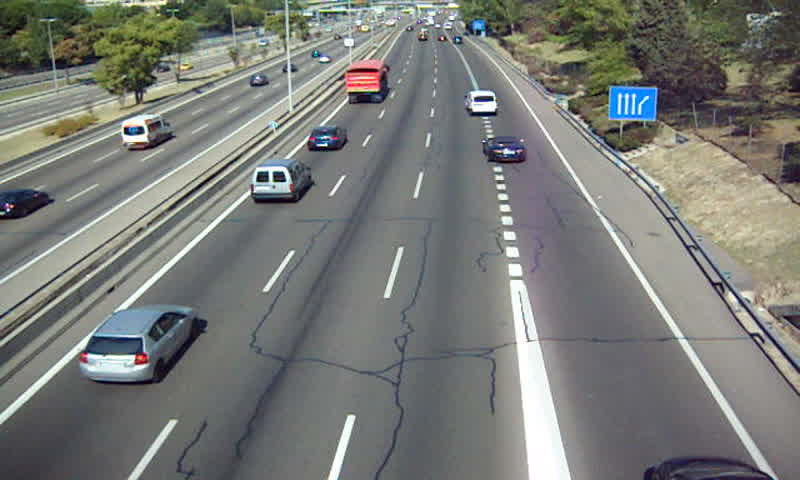car: (77, 306, 199, 382), (483, 134, 526, 163), (307, 125, 347, 151)
truck: (345, 62, 389, 103)
van: (252, 159, 312, 201), (464, 90, 498, 115)
